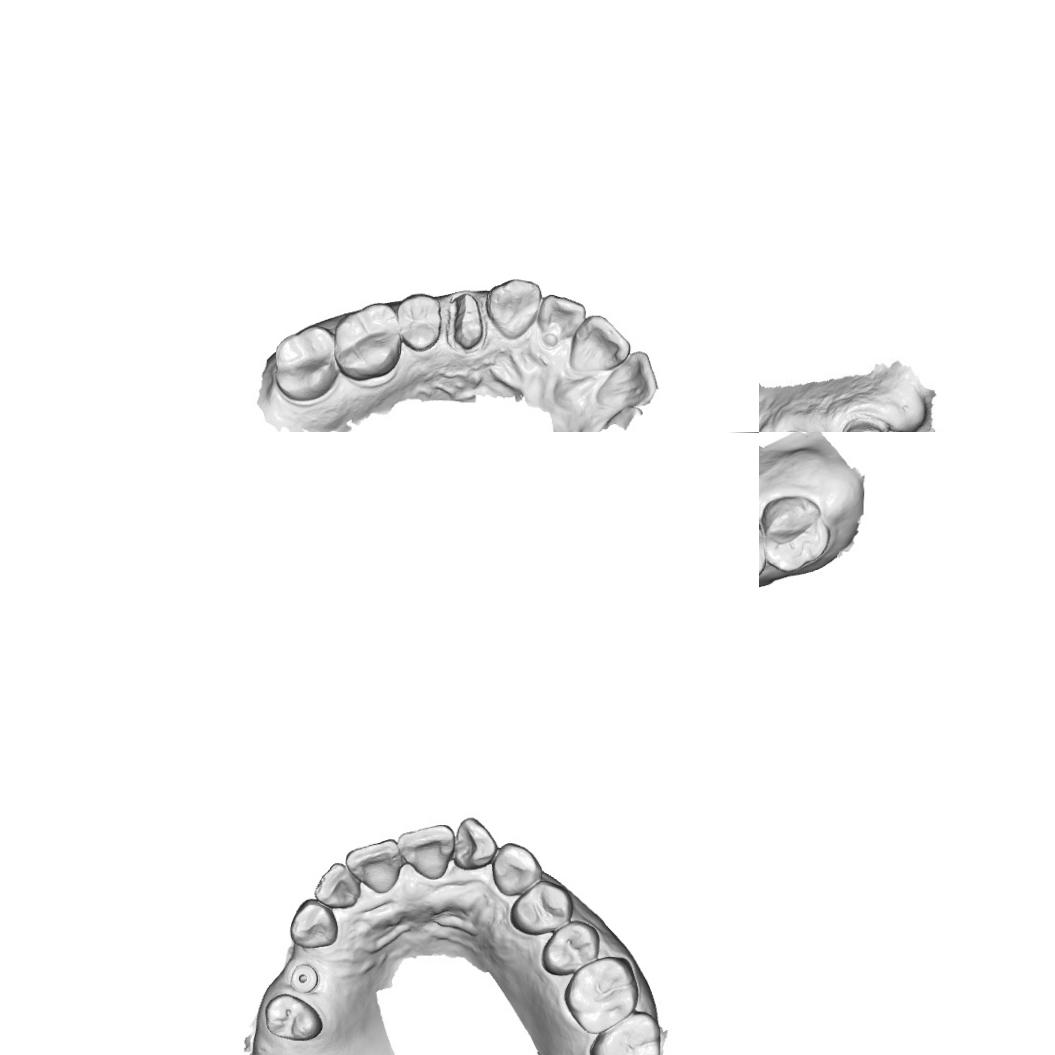canine: (485, 278, 543, 341), (489, 840, 543, 898), (287, 897, 340, 952)
crown: (444, 290, 488, 358)
implant: (288, 963, 318, 993)
incisor: (592, 350, 660, 410), (567, 313, 631, 376), (396, 822, 456, 882), (341, 836, 402, 895), (535, 294, 587, 350), (450, 815, 500, 872), (312, 860, 361, 909)
molar: (560, 954, 639, 1036), (759, 492, 833, 574), (332, 300, 403, 382), (271, 323, 341, 404), (586, 1007, 663, 1055)
premolar: (539, 917, 602, 978), (509, 877, 574, 936), (262, 992, 326, 1042), (396, 292, 442, 354)
